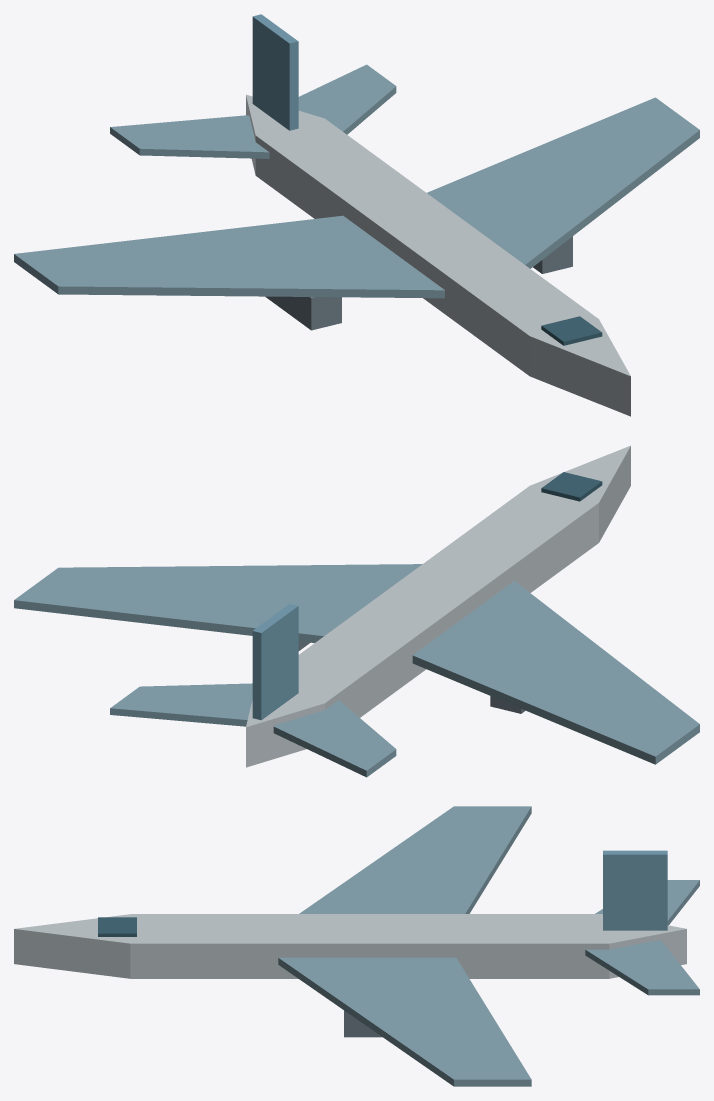
The model's file is aircraft.gltf.
3 views of the same model, one above another, from view 1: azimuth 30°, elevation 25°; view 2: azimuth 150°, elevation 25°; view 3: azimuth 270°, elevation 25° (orthographic). The views are drawn at different scales.
Size of the model in its own units: 50 by 11 by 53.
